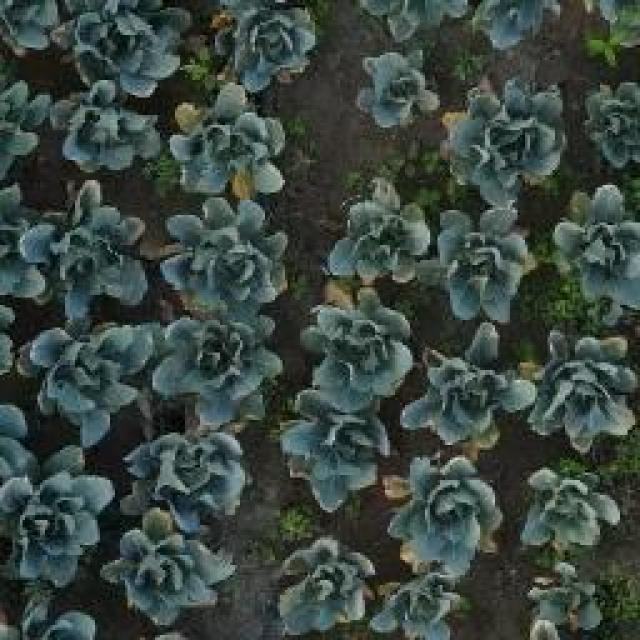cabbage: (20, 186, 152, 312), (445, 76, 568, 193), (162, 195, 292, 304), (153, 303, 276, 418), (168, 82, 280, 200), (108, 519, 230, 621), (3, 463, 109, 580), (390, 460, 502, 567), (303, 286, 413, 392), (278, 395, 388, 500), (31, 316, 137, 422), (432, 208, 532, 312), (420, 346, 524, 441), (135, 429, 245, 518), (540, 346, 636, 440), (84, 3, 173, 90), (568, 200, 640, 305), (64, 96, 158, 173), (526, 465, 612, 549), (338, 190, 426, 272), (290, 545, 370, 628), (226, 0, 307, 67), (360, 50, 436, 121), (383, 574, 465, 638), (519, 574, 602, 635)
